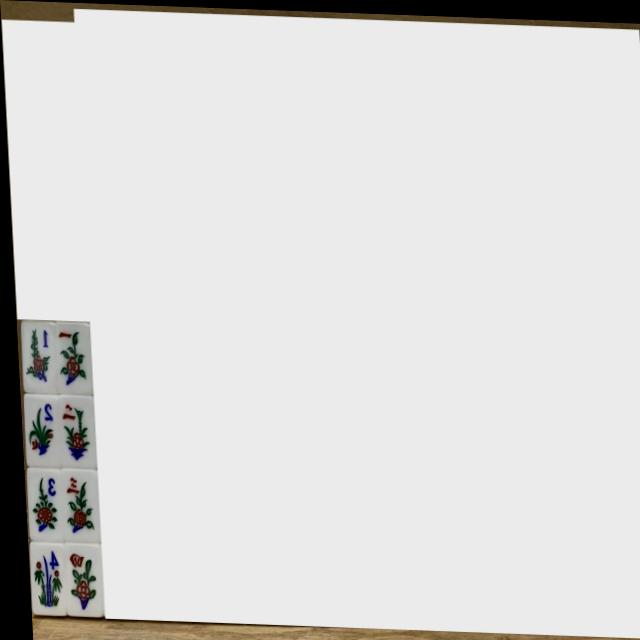1F: (20, 320, 59, 394)
1S: (54, 321, 94, 396)
2F: (23, 396, 63, 470)
2S: (57, 395, 96, 470)
3F: (25, 468, 64, 543)
3S: (60, 469, 100, 544)
4F: (30, 541, 68, 616)
4S: (65, 542, 105, 618)
